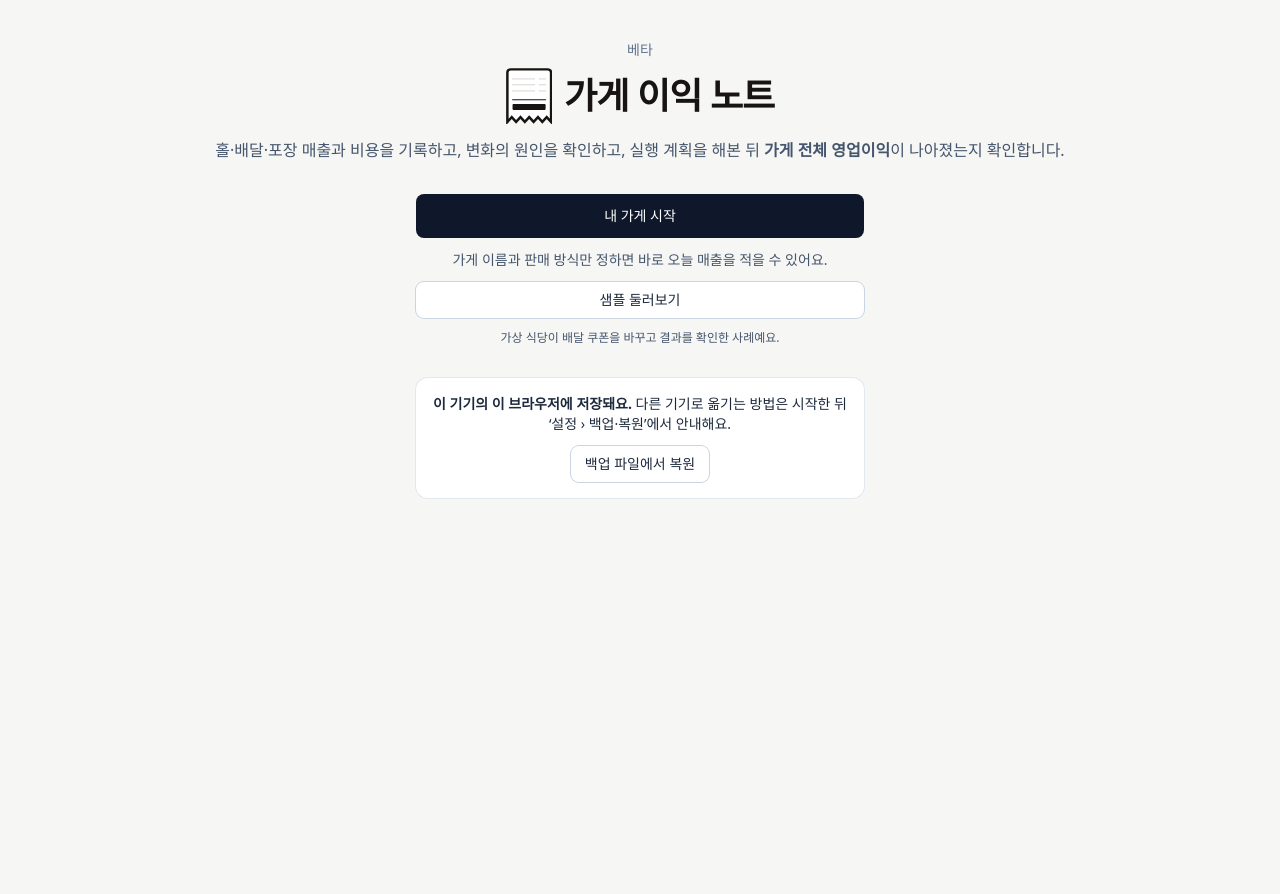
Test case: 앱 스모크 테스트 › 선택 항목을 비워도 실행 계획을 저장하고, 목표 기준별 단위를 표시한다
Later steps or results of the test are not shown.
Click the button "샘플 둘러보기". click: (640, 300)
box: left=416, top=282, right=864, bottom=318
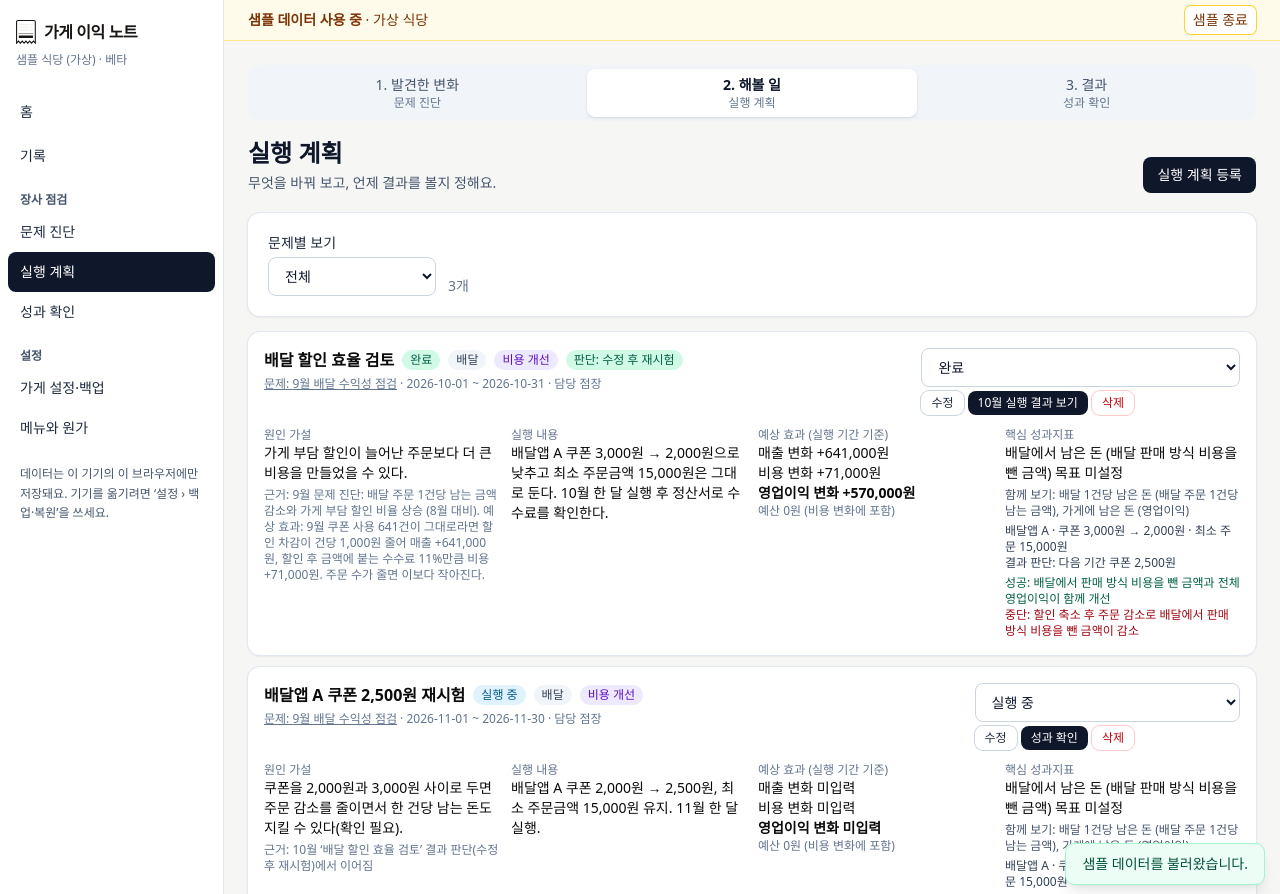
Click the button "실행 계획 등록". click: (1200, 175)
box: left=1143, top=157, right=1256, bottom=193
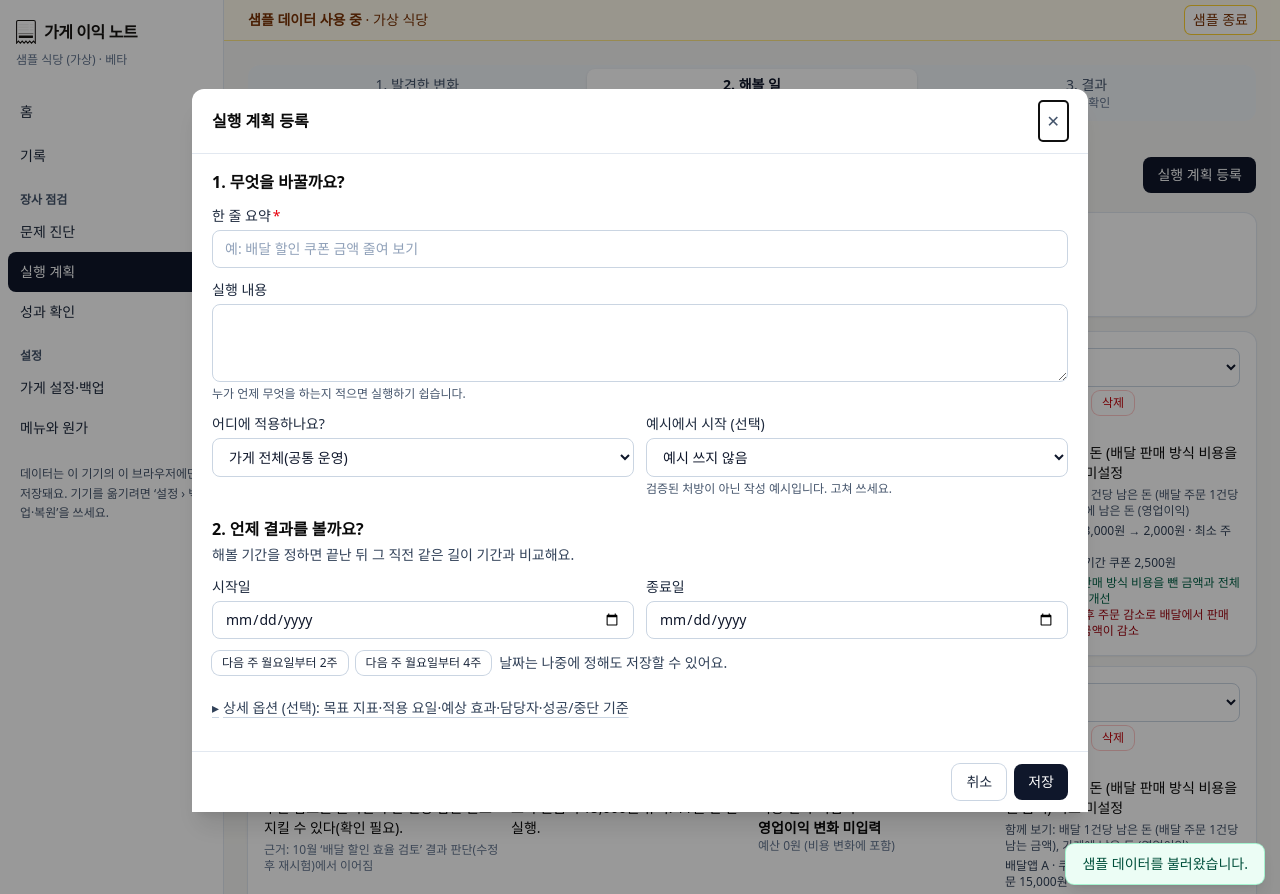
Click the button "저장". click: (1041, 782)
box: left=1014, top=764, right=1068, bottom=800
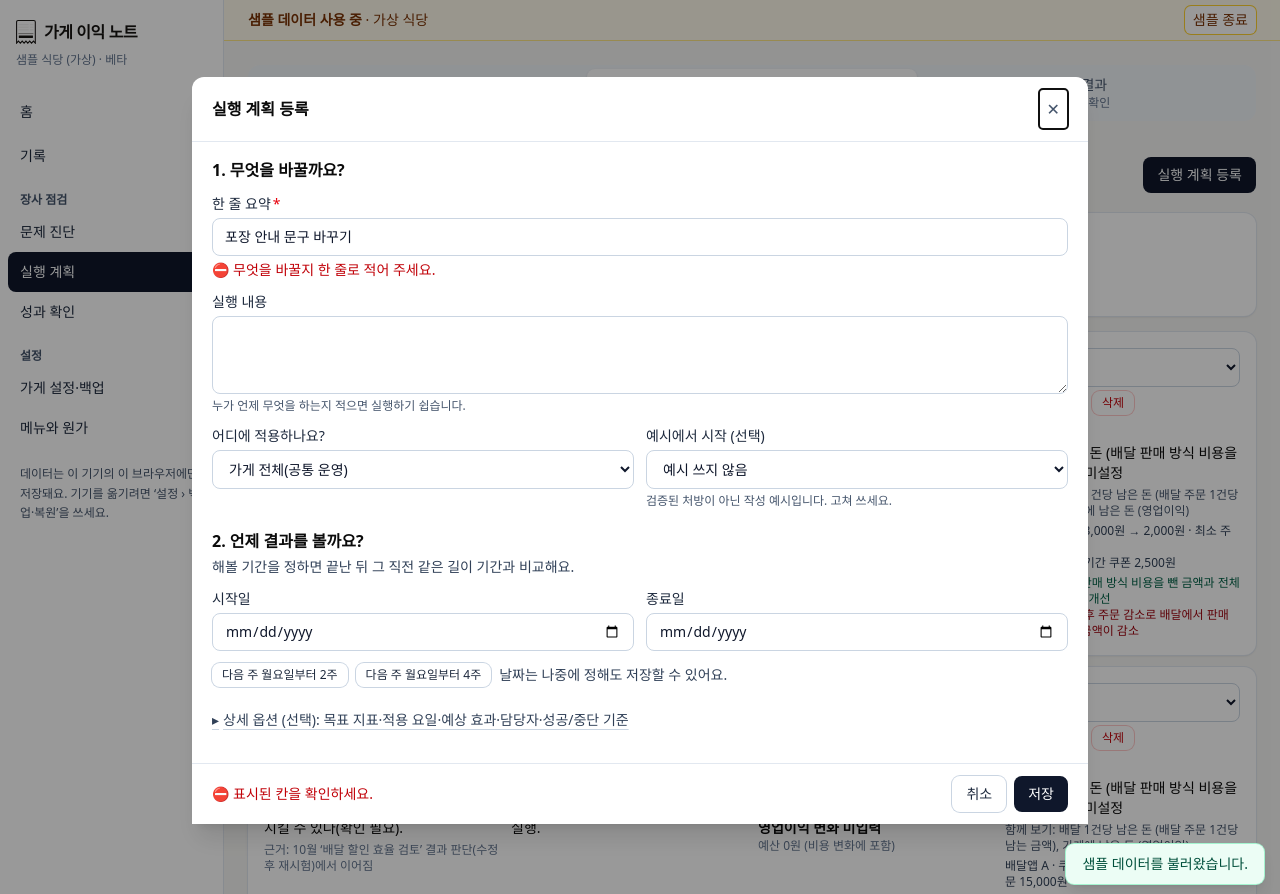
Expected: the dialog shows "무엇을 바꿀지 한 줄로 적어 주세요", left=233, top=260, right=435, bottom=278
